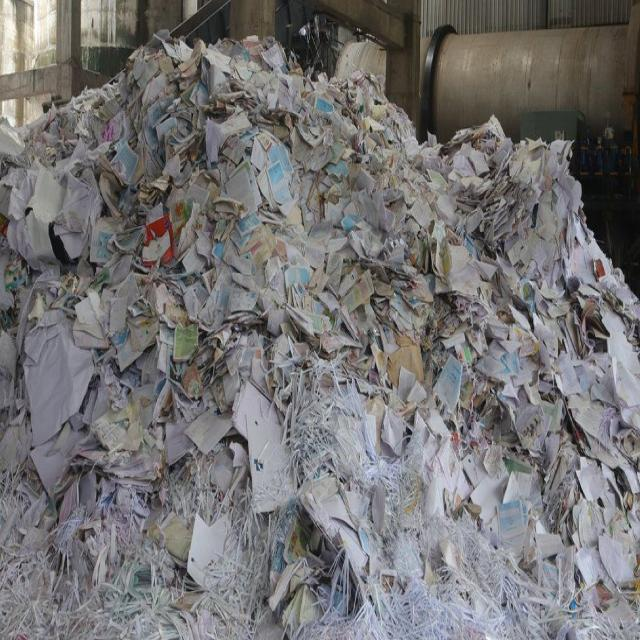PaperCardboard: (0, 39, 640, 640)
